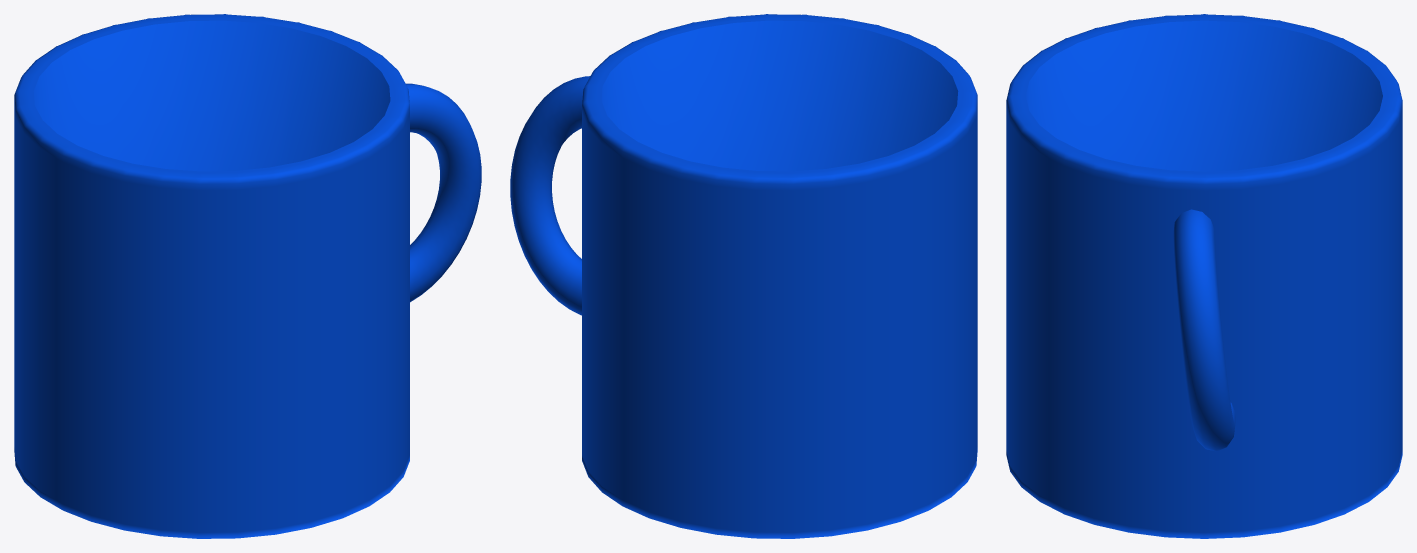
The model's file is cup.gltf.
3 renders of one model, left to right at view 1: azimuth 30°, elevation 25°; view 2: azimuth 150°, elevation 25°; view 3: azimuth 270°, elevation 25°, orthographic.
Visible parts, largest first — view 1: Cup, Handle; view 2: Cup, Handle; view 3: Cup, Handle.
Boxes of the visible parts, x1,y1,x2,y2 form: Cup: (14,14,409,538); Handle: (406,83,481,302); Cup: (582,14,977,538); Handle: (510,76,590,315); Cup: (1006,14,1402,538); Handle: (1173,209,1235,451).
Bounding box in the file's own units: 2.55 × 2 × 2.
